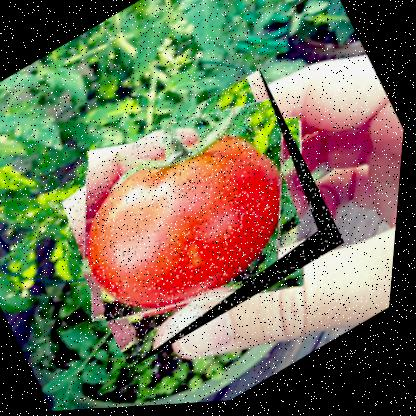tomato: (37, 66, 362, 376)
